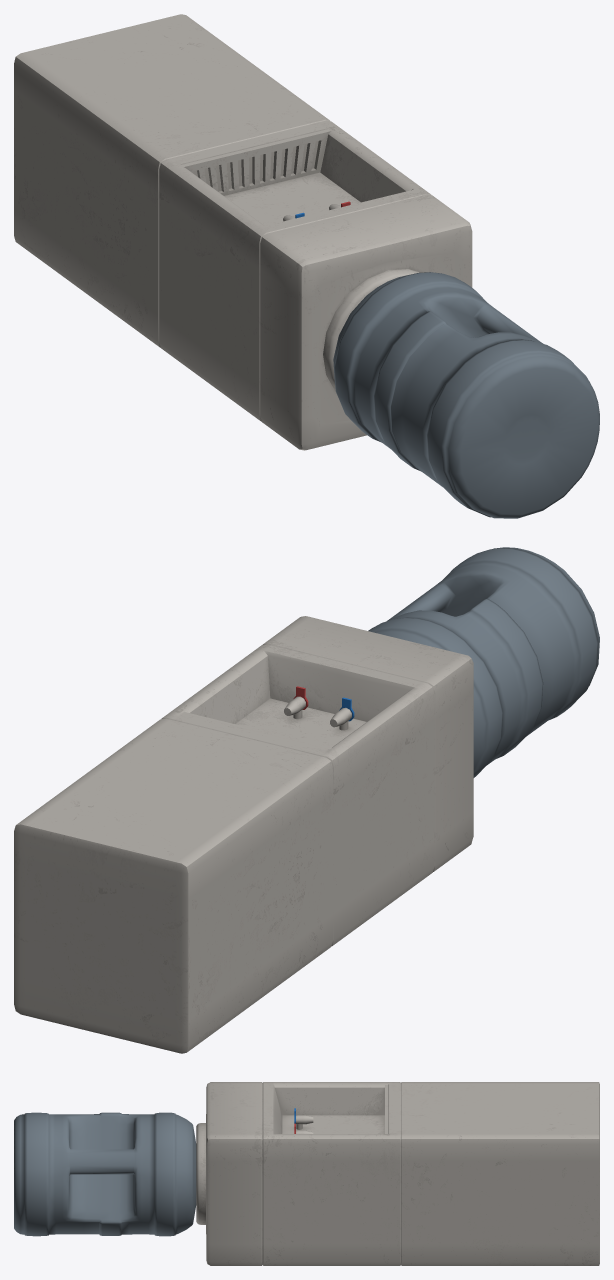
Rendered from Water station.fbx.
The picture shows the model from 3 angles, top to bottom: view 1: azimuth 30°, elevation 25°; view 2: azimuth 150°, elevation 25°; view 3: azimuth 270°, elevation 25°; orthographic projection. The views are drawn at different scales.
Visible parts, largest first — view 1: Mesh_21, Mesh_23; view 2: Mesh_21, Mesh_23; view 3: Mesh_21, Mesh_23.
Part boxes in pixels (left/top/right/bottom): Mesh_21: left=14, top=14, right=472, bottom=450; Mesh_23: left=333, top=272, right=599, bottom=518; Mesh_21: left=14, top=616, right=473, bottom=1053; Mesh_23: left=368, top=547, right=599, bottom=777; Mesh_21: left=196, top=1082, right=599, bottom=1265; Mesh_23: left=14, top=1112, right=196, bottom=1236.
Size of the model in its own units: 200 by 208 by 852.
